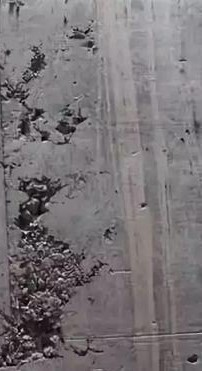Spalling: (1, 174, 113, 368), (1, 45, 90, 145), (65, 19, 99, 54), (102, 224, 117, 243)
